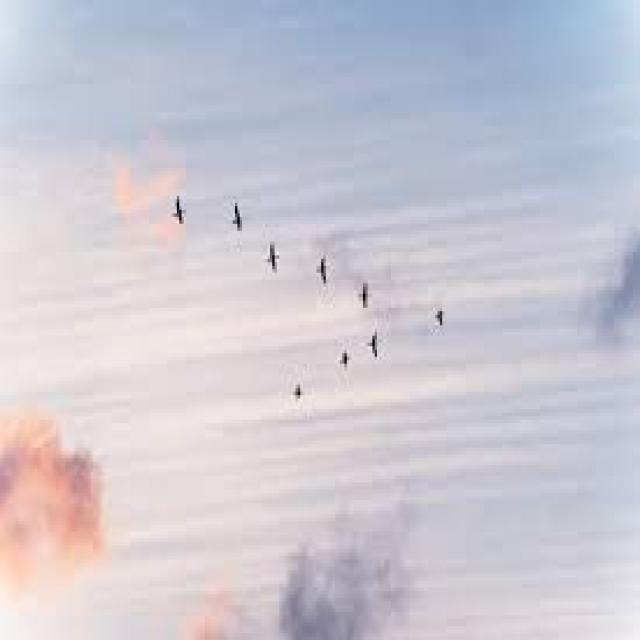bird: (250, 228, 292, 290), (276, 356, 313, 426), (213, 183, 250, 250), (162, 180, 196, 250), (332, 323, 355, 397), (308, 240, 334, 286), (362, 322, 385, 374), (346, 273, 374, 315), (435, 292, 452, 341)
